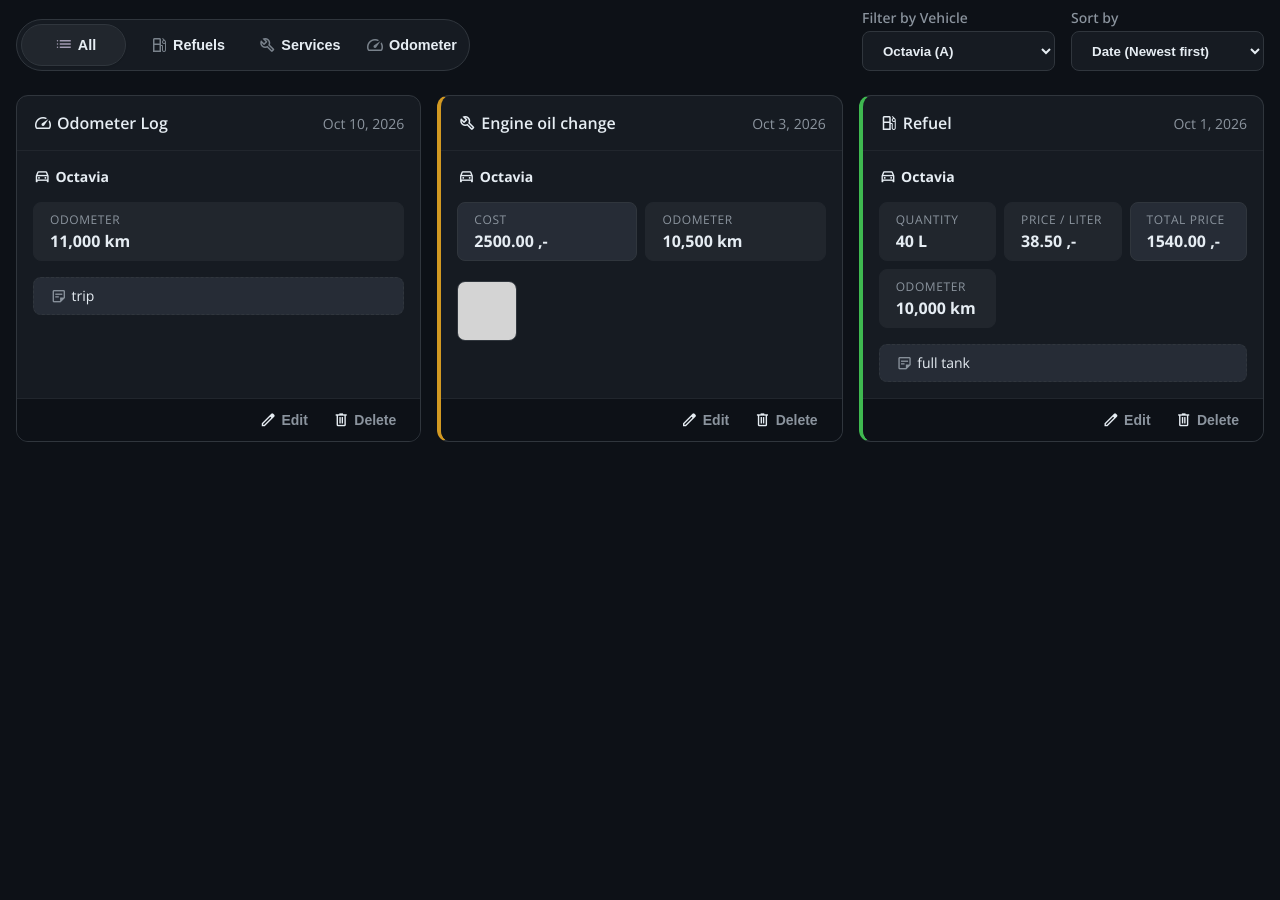
History view › editing › updates a refuel record
This screenshot has width=1280, height=900.
Click the button with class "btn-edit" below "full tank".
click(1126, 420)  # box [1094,407,1159,433]
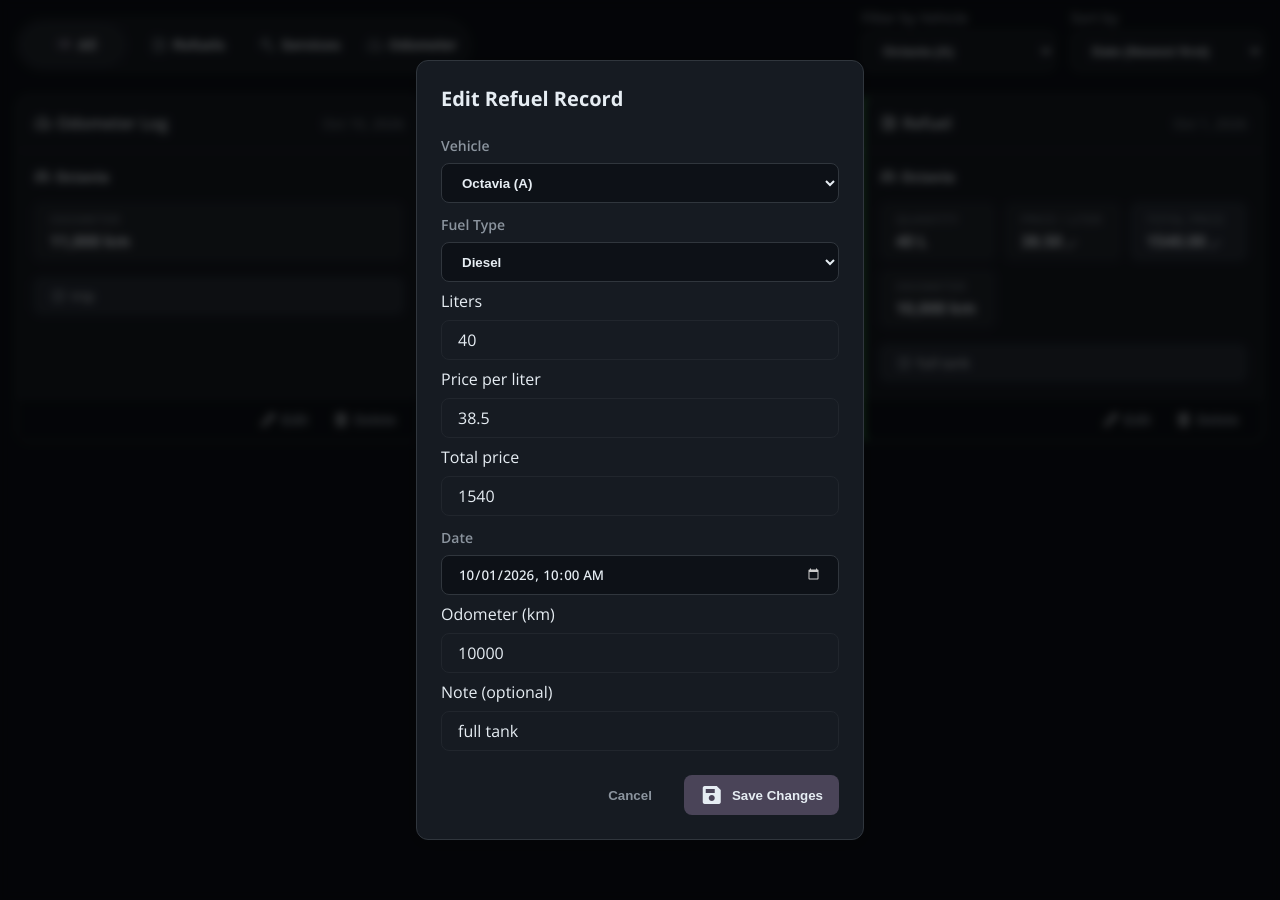
Expected: the number field with id "edit_hist_liters" holds "40"
Replace the text in the number field with id "edit_hist_liters" with "42" at (640, 340), box [441,320,839,360]
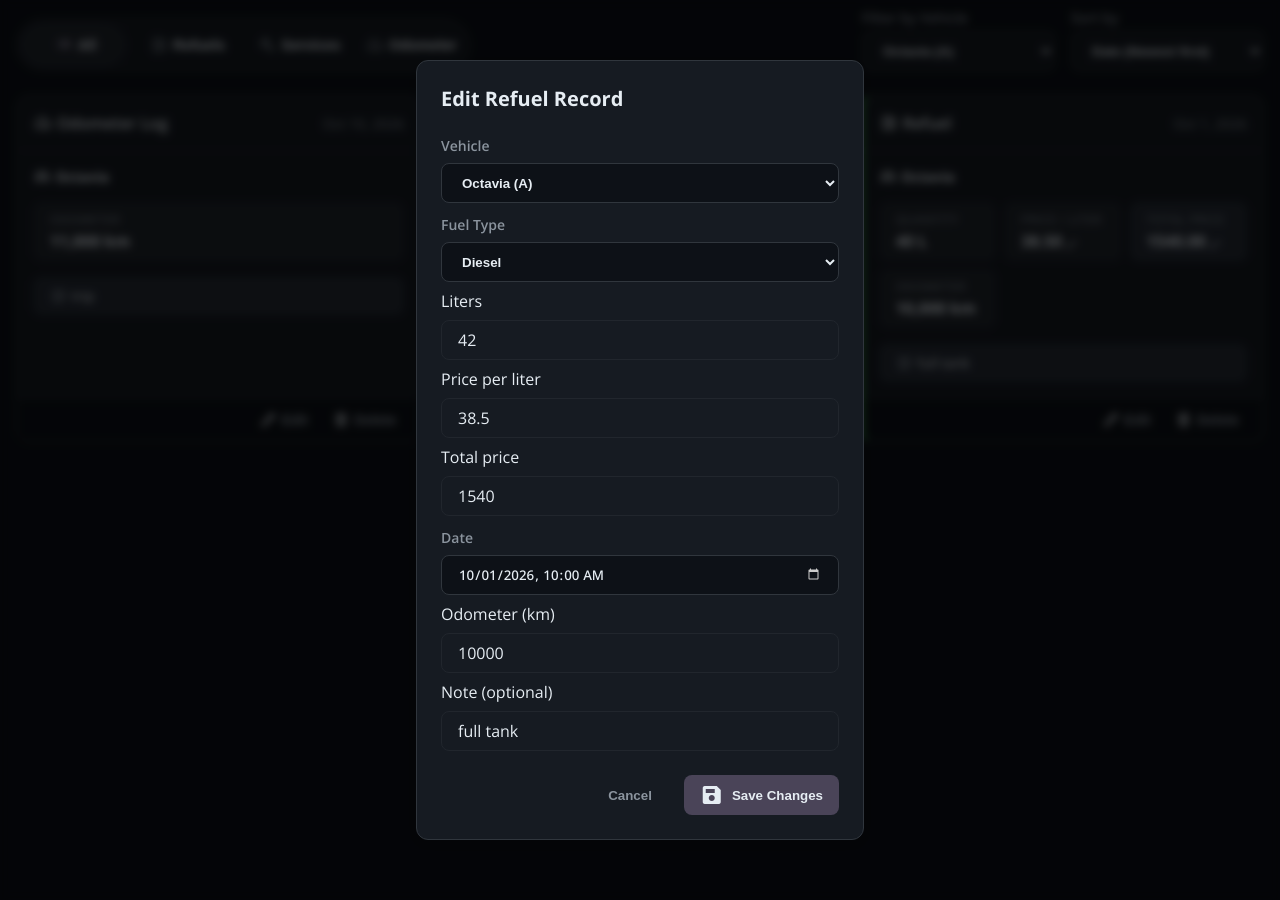
Clear the field with id "edit_hist_note" at (640, 731), box [441,711,839,751]
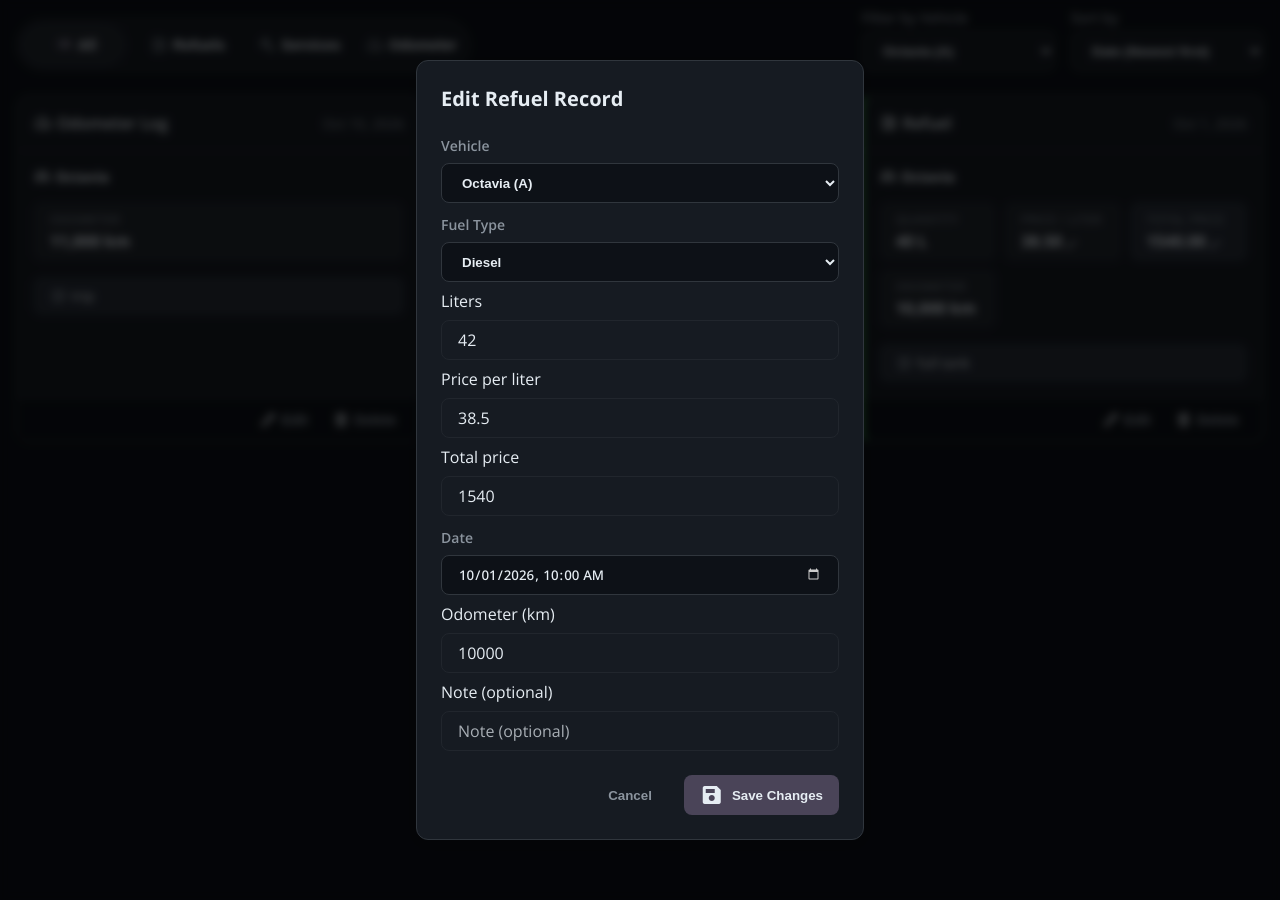
Submit the form, box [441,132,839,815]
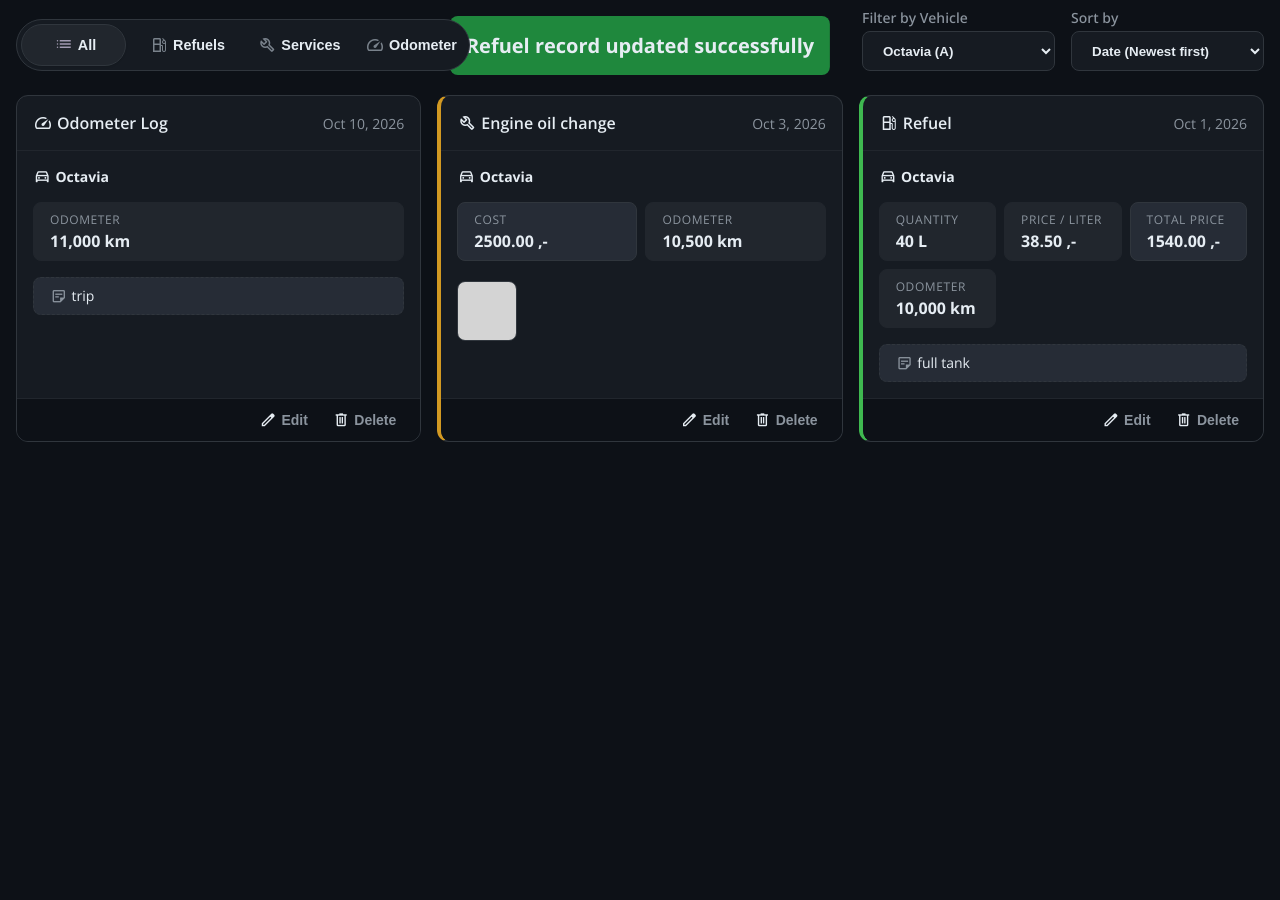
Expected: the text "Refuel record updated successfully" is shown, [466,32,814,59]
